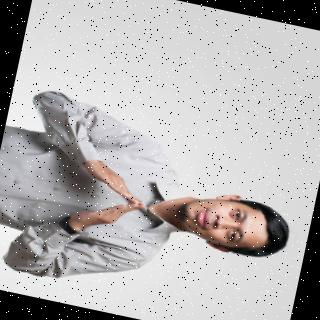House: (60, 156, 159, 244)
